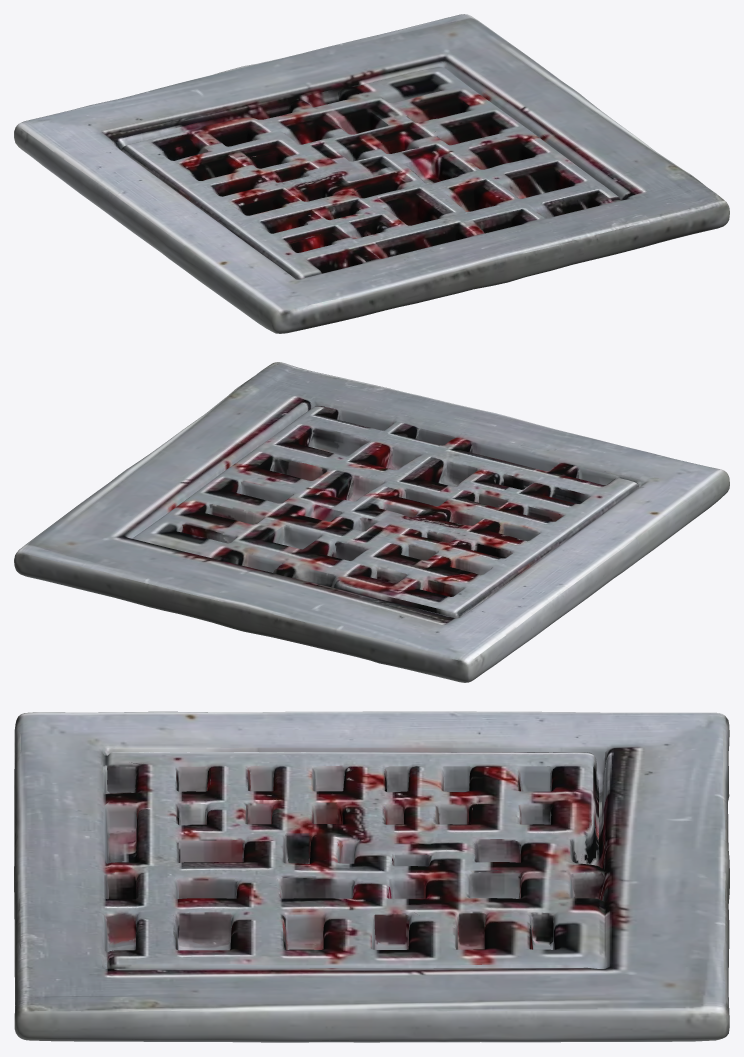
File: floor-drain.glb
The picture shows the model from 3 angles, top to bottom: view 1: azimuth 30°, elevation 25°; view 2: azimuth 150°, elevation 25°; view 3: azimuth 270°, elevation 25°; orthographic projection. The views are drawn at different scales.
Parts seen in each view (by area): view 1: cowninja-floor-drain; view 2: cowninja-floor-drain; view 3: cowninja-floor-drain.
Part boxes in pixels (bbox=[...]): cowninja-floor-drain: bbox=[14, 14, 729, 333]; cowninja-floor-drain: bbox=[14, 362, 729, 682]; cowninja-floor-drain: bbox=[14, 711, 729, 1042].
Bounding box in the file's own units: 0.6001 × 0.0395 × 0.5986.
Materials: 1 (1 with a texture image).
